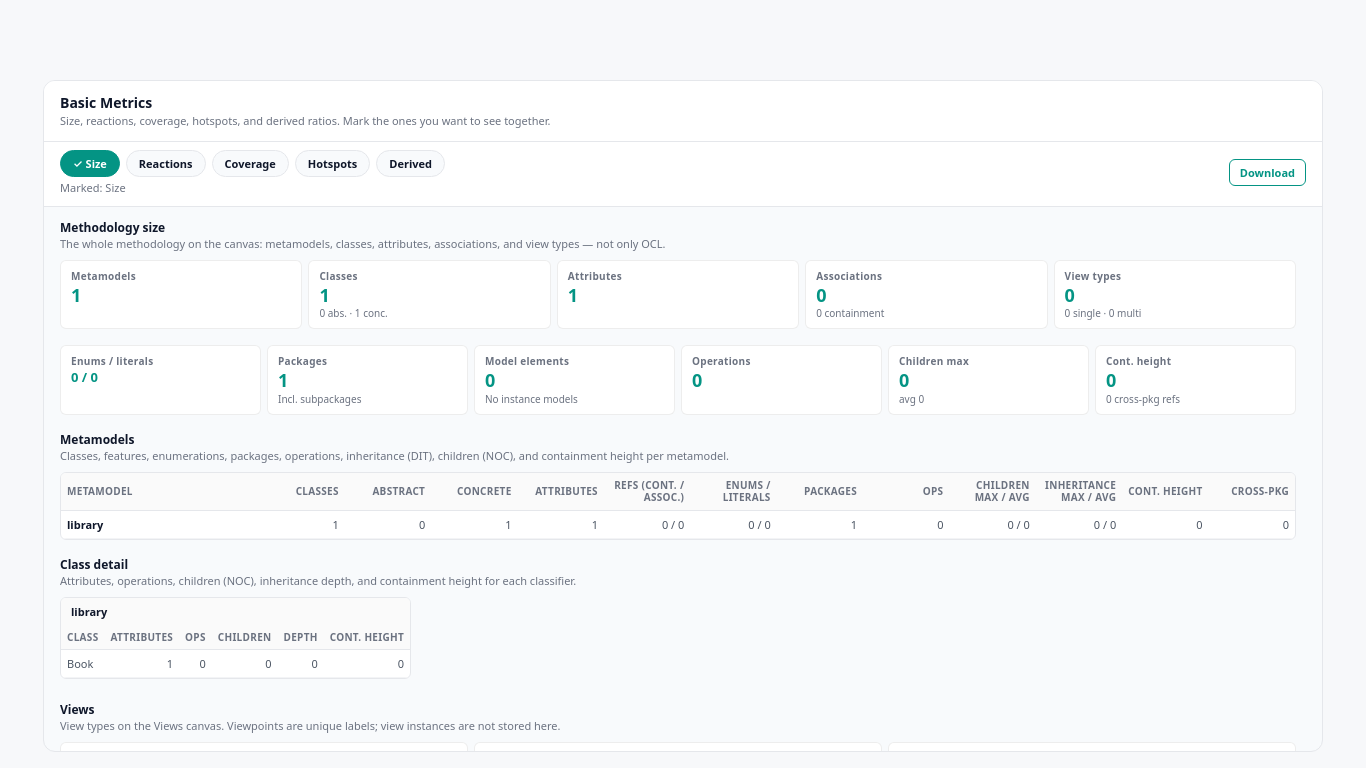
Test: CanvasMetricsOverlay › lets the user unmark a category while keeping the others visible
This screenshot has width=1366, height=768.
Click the button with test id "metrics-tab-derived" at x=411, y=163, box x1=376 y1=150 x2=445 y2=177
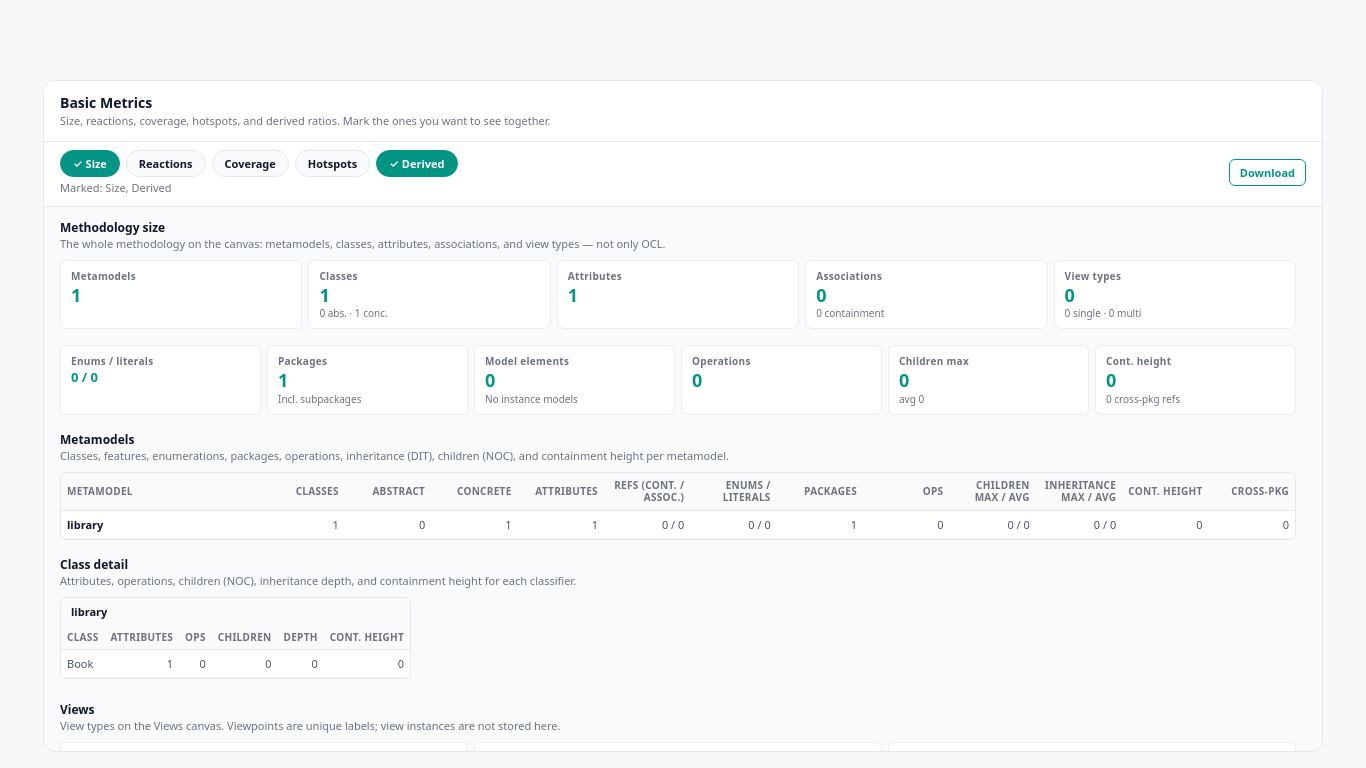
Expected: the text "Methodology size" is shown, x1=60 y1=219 x2=165 y2=236
Click the button with test id "metrics-tab-size" at x=90, y=163, box x1=60 y1=150 x2=120 y2=177
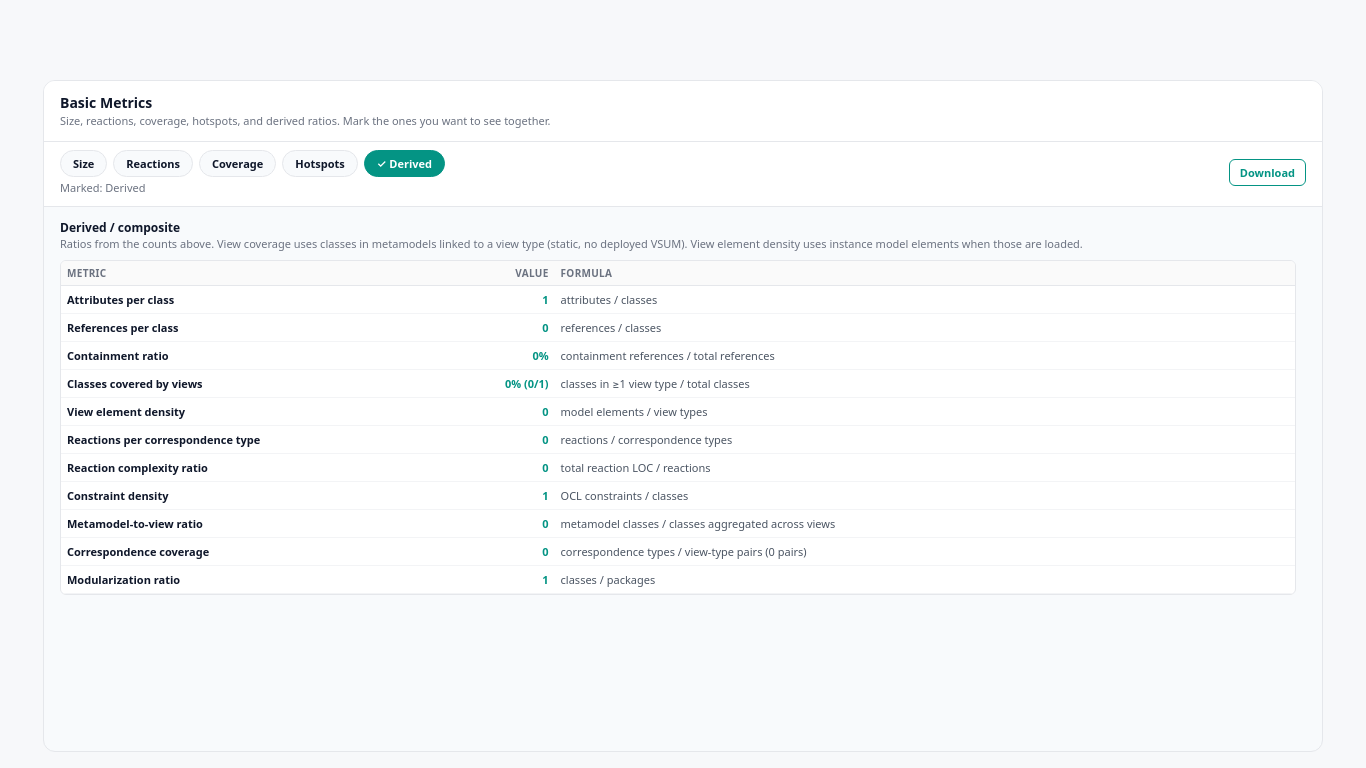
Expected: the text "Methodology size" is gone
Expected: the text "Derived / composite" is shown, x1=60 y1=219 x2=180 y2=236
